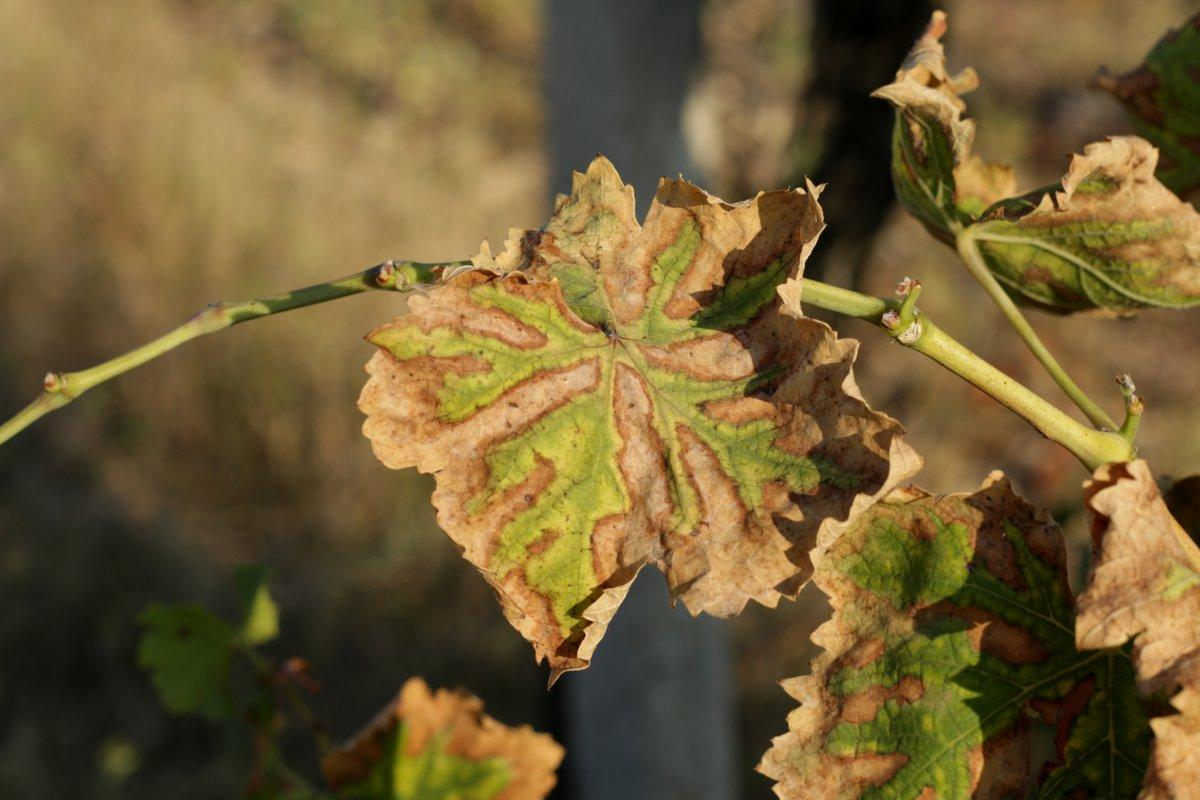Verticillium wilt: (360, 158, 908, 675), (763, 474, 1149, 799), (1076, 460, 1199, 799), (967, 136, 1199, 311), (871, 11, 1014, 240)
